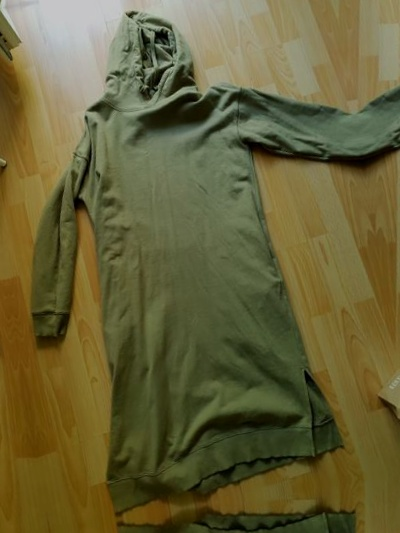Hoodie: (0, 0, 400, 529), (334, 0, 400, 467), (60, 470, 400, 533), (0, 50, 39, 533)
